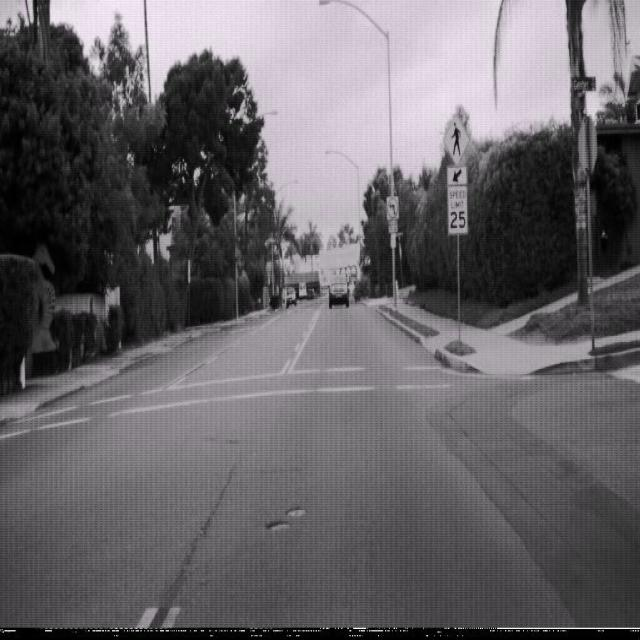pedestrianCrossing: (442, 111, 470, 166)
speedLimit25: (446, 182, 468, 236)
